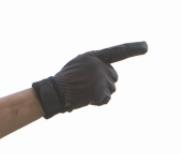up: (43, 38, 152, 114)
